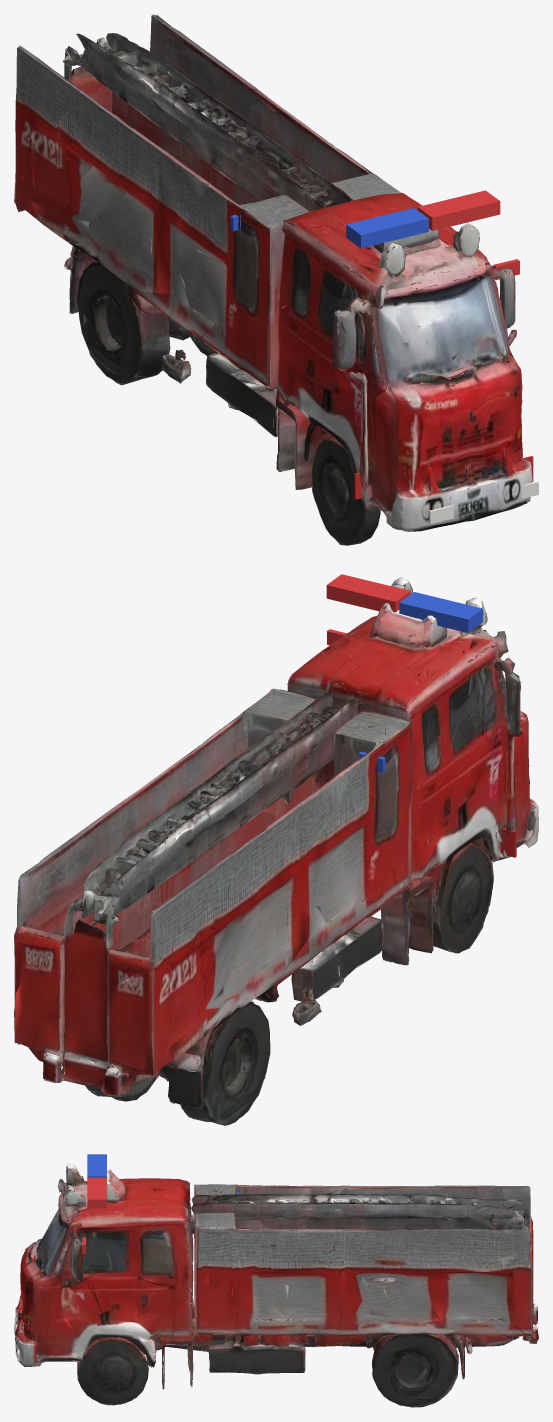
The model's file is fire-brigade.glb.
3 renders of one model, top to bottom at view 1: azimuth 30°, elevation 25°; view 2: azimuth 150°, elevation 25°; view 3: azimuth 270°, elevation 25°, orthographic. The views are drawn at different scales.
Parts seen in each view (by area): view 1: Body, siren_R, siren_L; view 2: Body, siren_R, siren_L; view 3: Body, siren_L, siren_R.
Part boxes in pixels (x1,y1,x2,y2): Body: (14, 14, 532, 545); siren_R: (346, 208, 428, 248); siren_L: (417, 190, 500, 230); Body: (14, 577, 538, 1125); siren_R: (399, 592, 483, 632); siren_L: (326, 574, 410, 612); Body: (14, 1163, 538, 1407); siren_L: (87, 1177, 106, 1208); siren_R: (87, 1154, 106, 1177).
Bounding box in the file's own units: 2.55 × 3.9 × 8.61.
5 materials, 1 textured.
